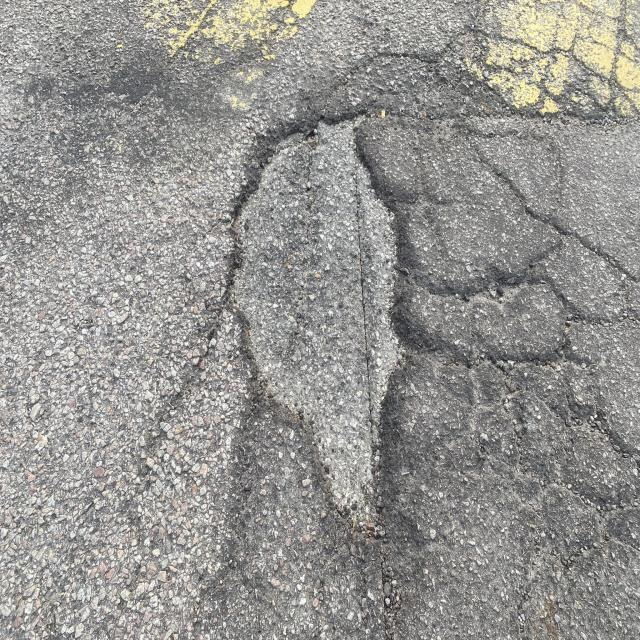pothole: (176, 81, 450, 555)
